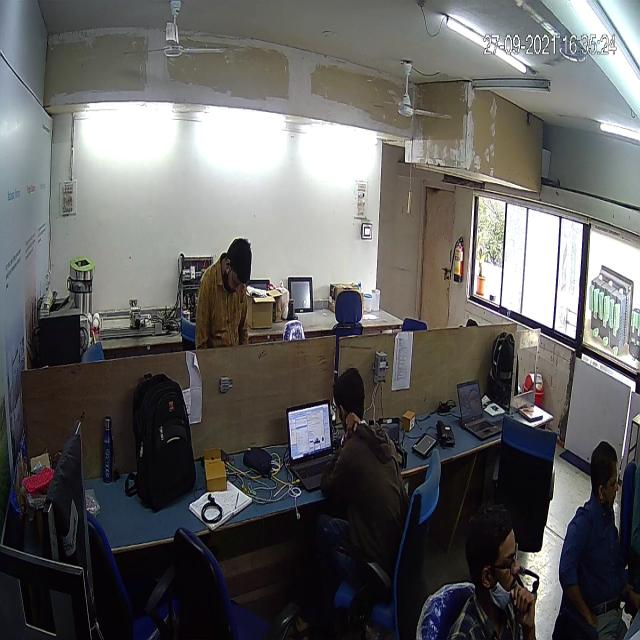adult: (314, 358, 422, 612), (543, 420, 629, 640), (446, 491, 539, 640), (189, 228, 259, 390)
